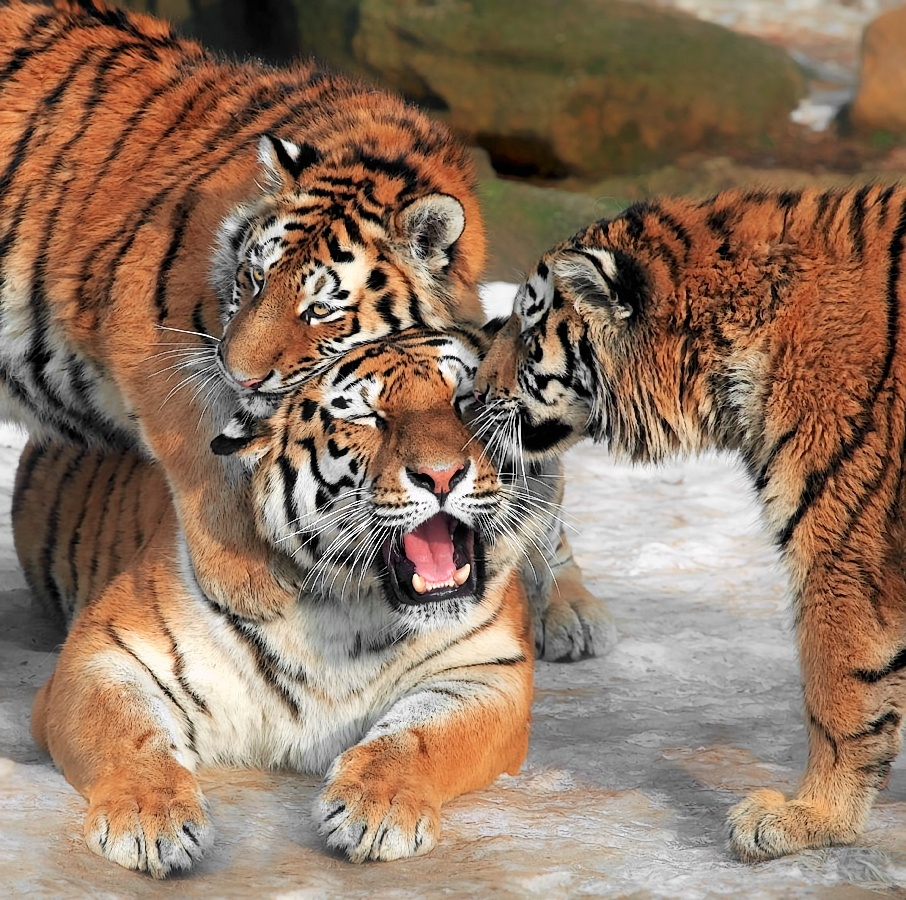tiger: (465, 149, 904, 846), (105, 318, 560, 863), (42, 53, 507, 380)
